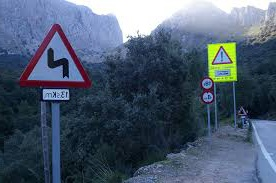Double_bend_left: (17, 22, 93, 88)
